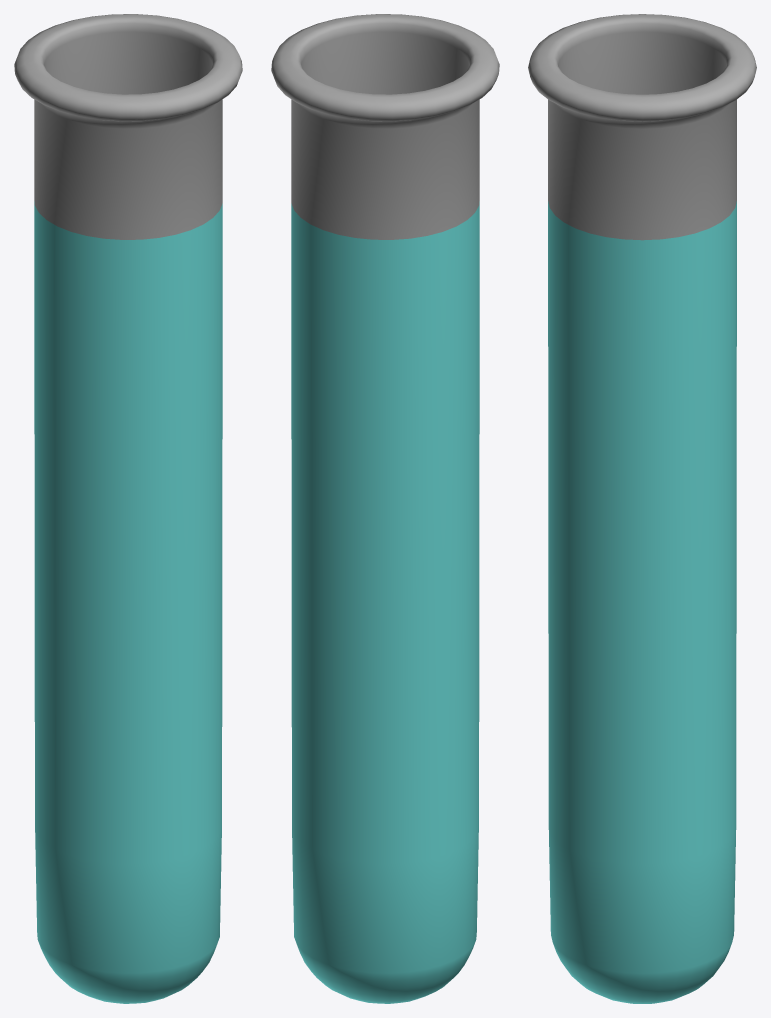
Rendered from beaker04.fbx.
The picture shows the model from 3 angles, left to right: view 1: azimuth 30°, elevation 25°; view 2: azimuth 150°, elevation 25°; view 3: azimuth 270°, elevation 25°; orthographic projection.
Visible parts, largest first — view 1: testtube; view 2: testtube; view 3: testtube.
Boxes of the visible parts, left/top/right/bottom form: testtube: left=14, top=14, right=242, bottom=1003; testtube: left=271, top=14, right=499, bottom=1003; testtube: left=528, top=14, right=756, bottom=1003.
Bounding box in the file's own units: 1.17 × 5.27 × 1.17.
